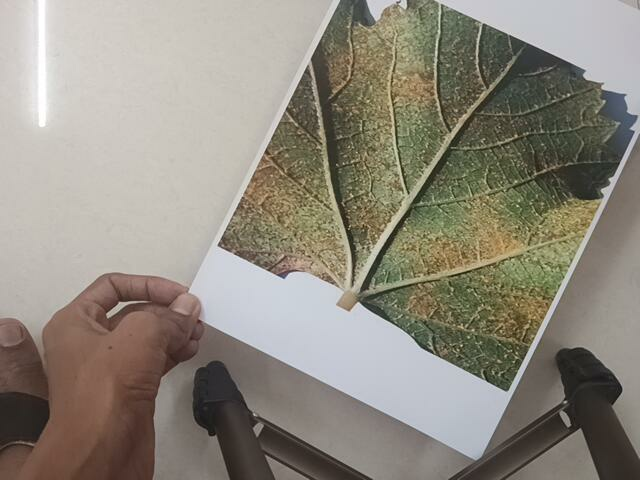Grape_Rust_Fungus: (220, 3, 602, 345)
